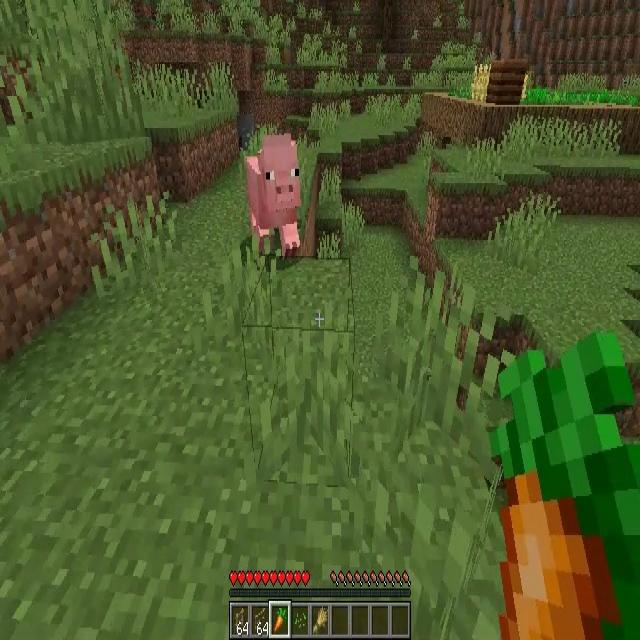pig: (245, 141, 302, 256)
